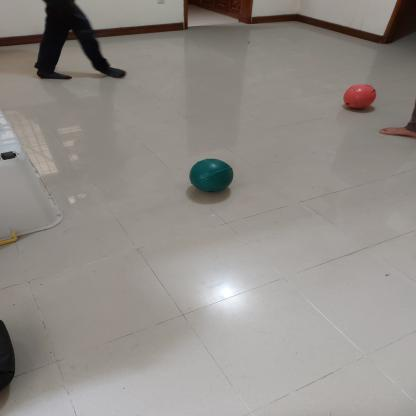green_buoy: (188, 158, 235, 193)
red_buoy: (342, 83, 377, 109)
